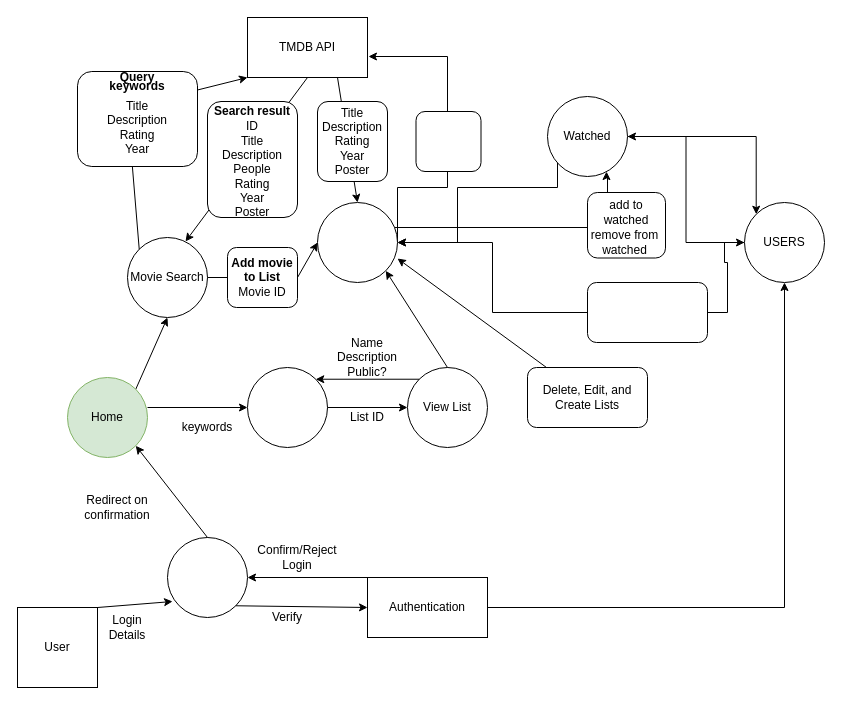
The diagram is 842 pixels wide and 705 high, and some of its shapes have lost their labels. Here are the shapes that lost their labels. From the top down, the box of each, then its label:
(415, 110, 481, 172): Movie ID
(316, 202, 398, 282): LISTS
(586, 282, 708, 342): Created/followed lists
(246, 366, 328, 448): List Search
(166, 536, 248, 618): Login
